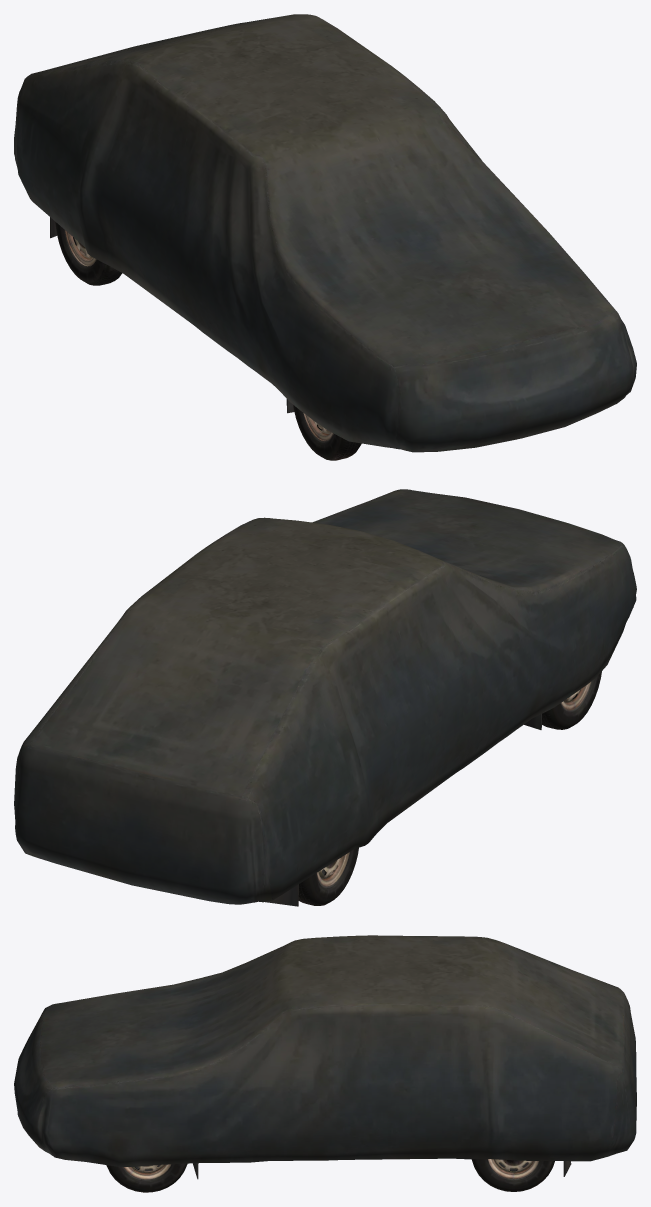
Rendered from covered_car.glb.
3 renders of one model, top to bottom at view 1: azimuth 30°, elevation 25°; view 2: azimuth 150°, elevation 25°; view 3: azimuth 270°, elevation 25°, orthographic. The views are drawn at different scales.
Visible parts, largest first — view 1: covered_car_wheel_01; view 2: covered_car_wheel_01; view 3: covered_car_wheel_01.
Part boxes in pixels (x1,y1,x2,y2): covered_car_wheel_01: [14, 14, 636, 460]; covered_car_wheel_01: [14, 489, 636, 906]; covered_car_wheel_01: [14, 935, 636, 1192].
Size of the model in its own units: 1.79 by 1.41 by 4.38.
1 material, 1 textured.
